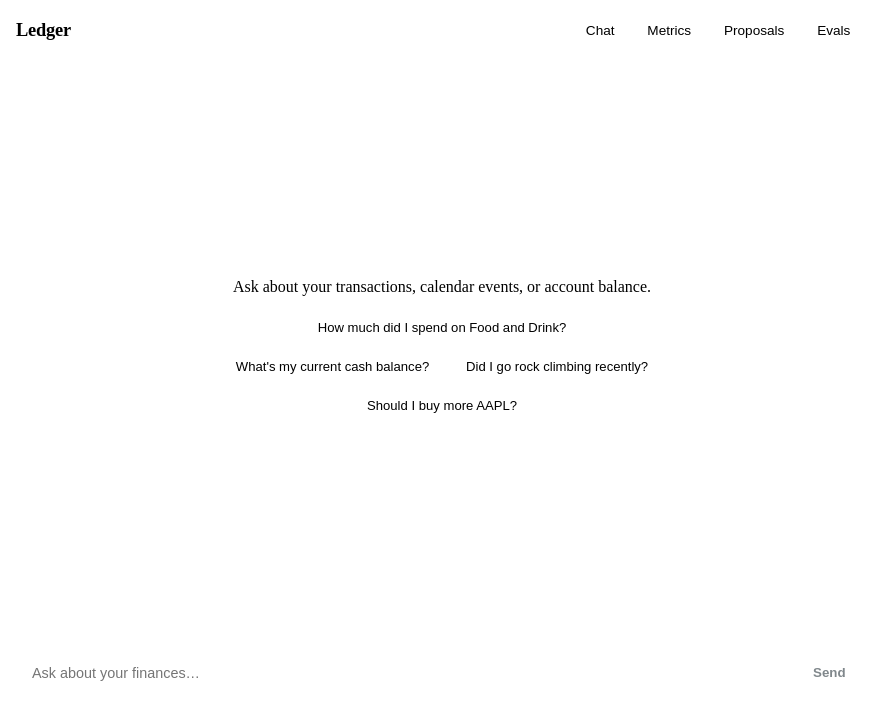
workspace navigation › keeps sent messages and their answers after visiting other tabs
Type "Coffee spend?" into the field named "Message" at {"x": 398, "y": 673}, box [16,654,781,692]
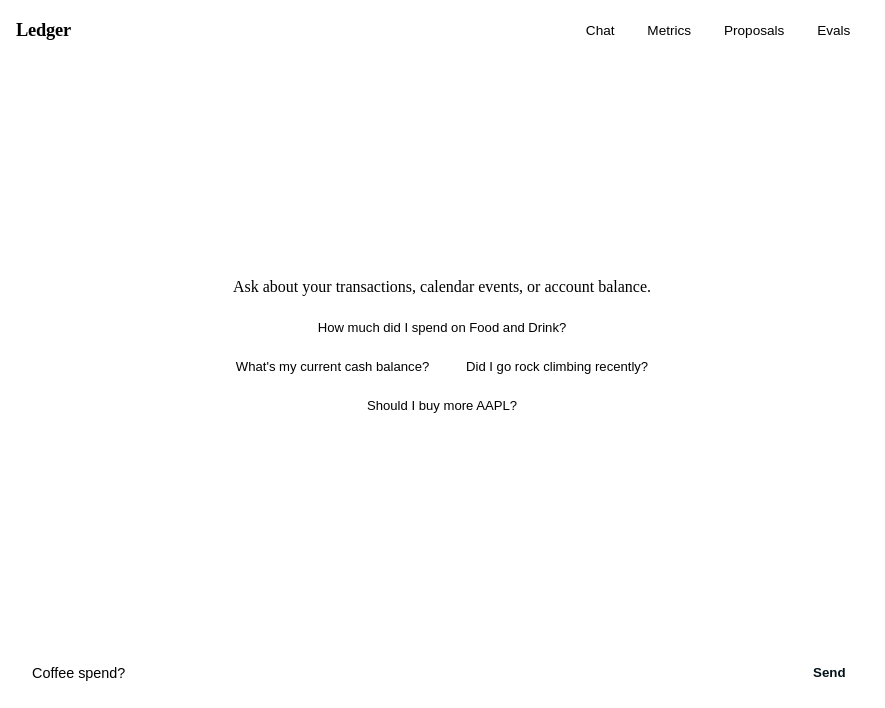
Click the button "Send" at {"x": 829, "y": 673}, box [791,654,868,692]
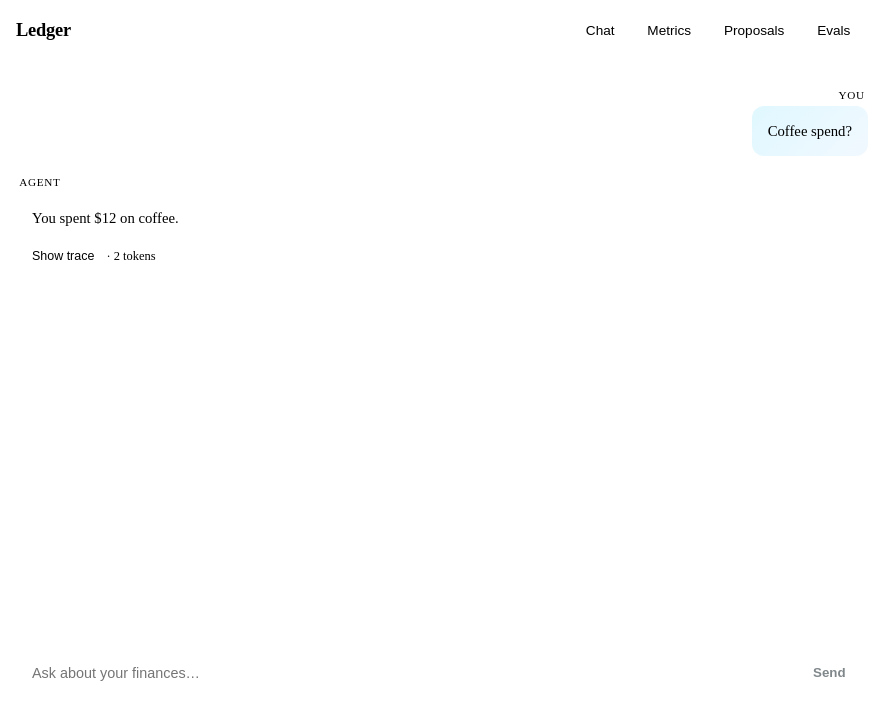
Expected: the text "You spent $12 on coffee." is shown, [32,210,179,226]
Click the tab "Metrics" at {"x": 669, "y": 31}, box [633,17,706,45]
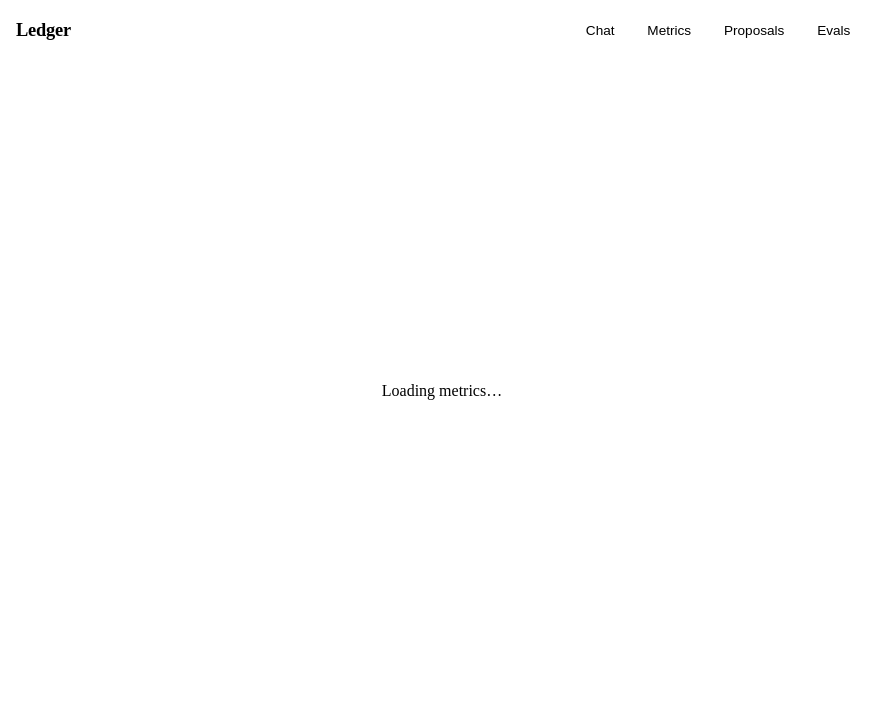
Click the tab "Evals" at {"x": 834, "y": 31}, box [803,17,865,45]
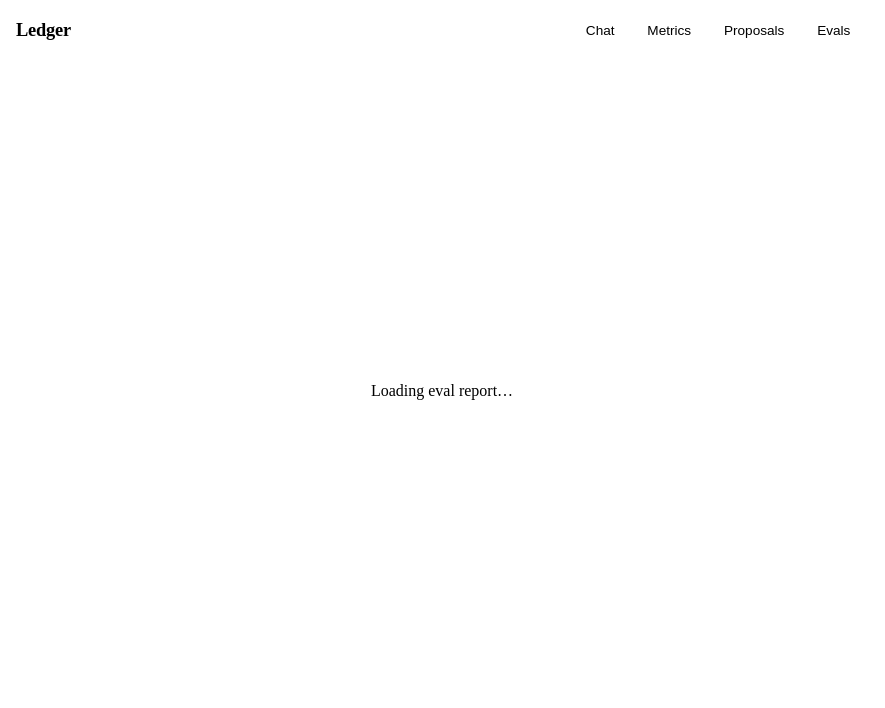
Click the tab "Chat" at {"x": 600, "y": 31}, box [572,17,629,45]
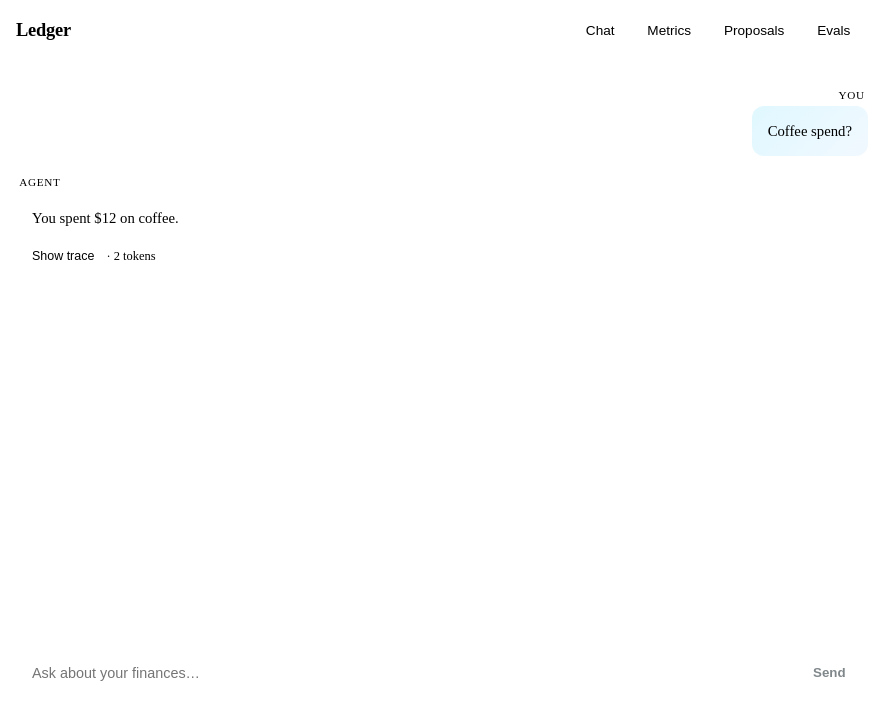
Expected: the text "Coffee spend?" is shown, [768,123,852,139]
Expected: the text "You spent $12 on coffee." is shown, [32,210,179,226]
